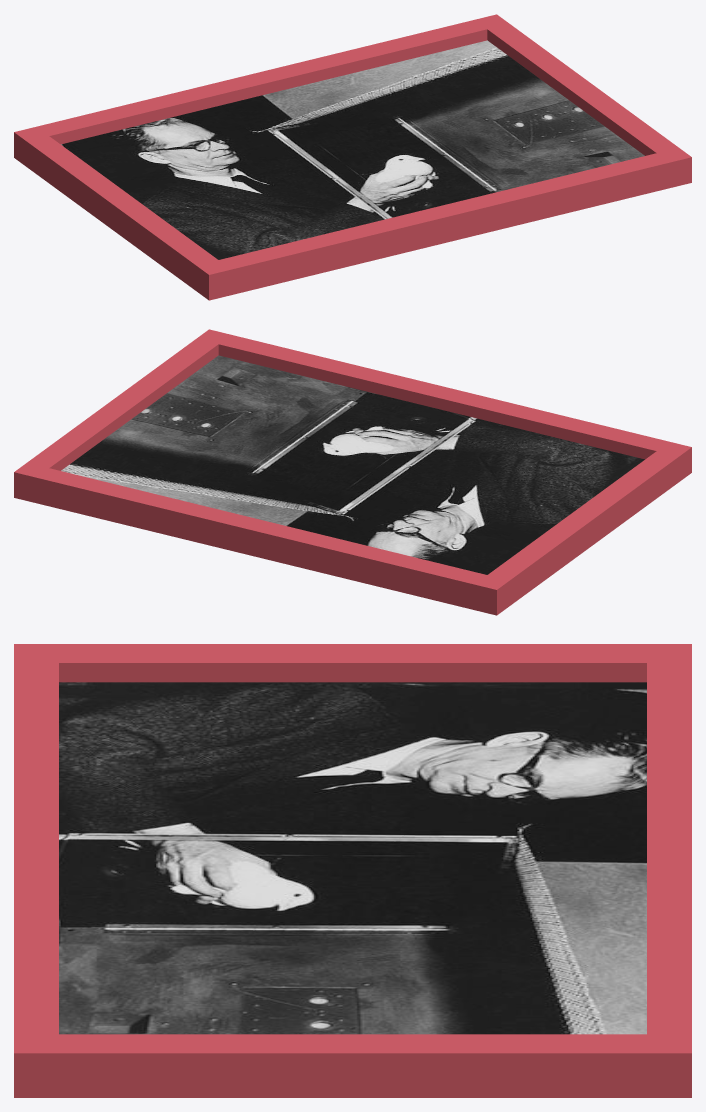
File: SM-SkinnerFrame.fbx
3 views of the same model, one above another, from view 1: azimuth 30°, elevation 25°; view 2: azimuth 150°, elevation 25°; view 3: azimuth 270°, elevation 25° (orthographic). The views are drawn at different scales.
Parts seen in each view (by area): view 1: SkinnerFrame; view 2: SkinnerFrame; view 3: SkinnerFrame.
Part boxes in pixels (x1=…): SkinnerFrame: x1=14, y1=14, x2=691, y2=300; SkinnerFrame: x1=14, y1=329, x2=691, y2=615; SkinnerFrame: x1=14, y1=644, x2=691, y2=1097.
Bounding box in the file's own units: 20 × 1.01 × 14.
